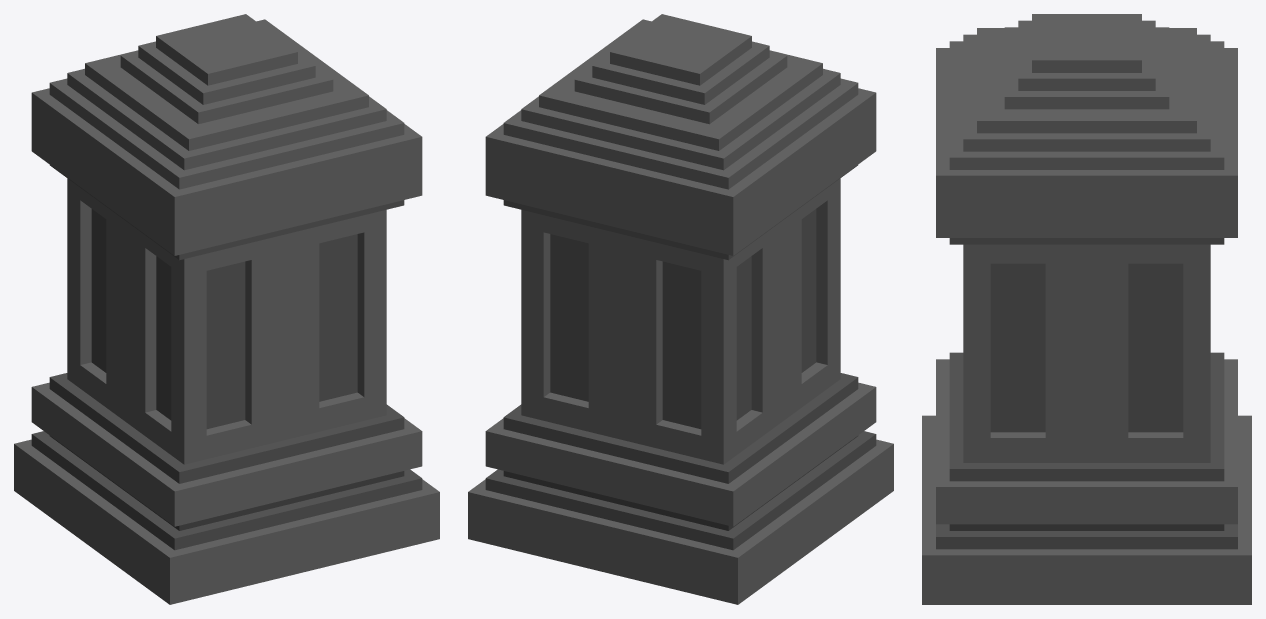
Rendered from Tilemap_Deco_C0_P010.obj.
3 renders of one model, left to right at view 1: azimuth 30°, elevation 25°; view 2: azimuth 150°, elevation 25°; view 3: azimuth 270°, elevation 25°, orthographic. The views are drawn at different scales.
Size of the model in its own units: 2.4 by 4 by 2.4.
1 material, 1 textured.
